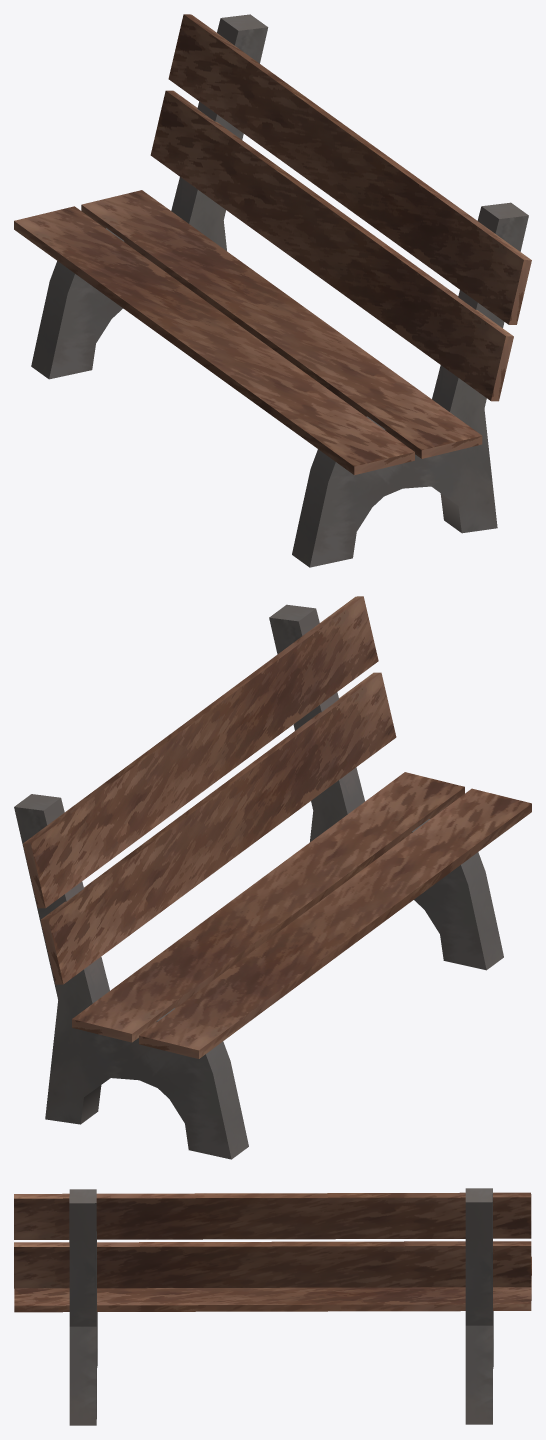
Rendered from bench.fbx.
3 renders of one model, top to bottom at view 1: azimuth 30°, elevation 25°; view 2: azimuth 150°, elevation 25°; view 3: azimuth 270°, elevation 25°, orthographic. The views are drawn at different scales.
Parts seen in each view (by area): view 1: bench; view 2: bench; view 3: bench.
Part boxes in pixels (left/top/right/bottom): bench: left=14, top=14, right=531, bottom=567; bench: left=14, top=596, right=531, bottom=1159; bench: left=14, top=1188, right=531, bottom=1425.
Size of the model in its own units: 82.7 by 110 by 218.
